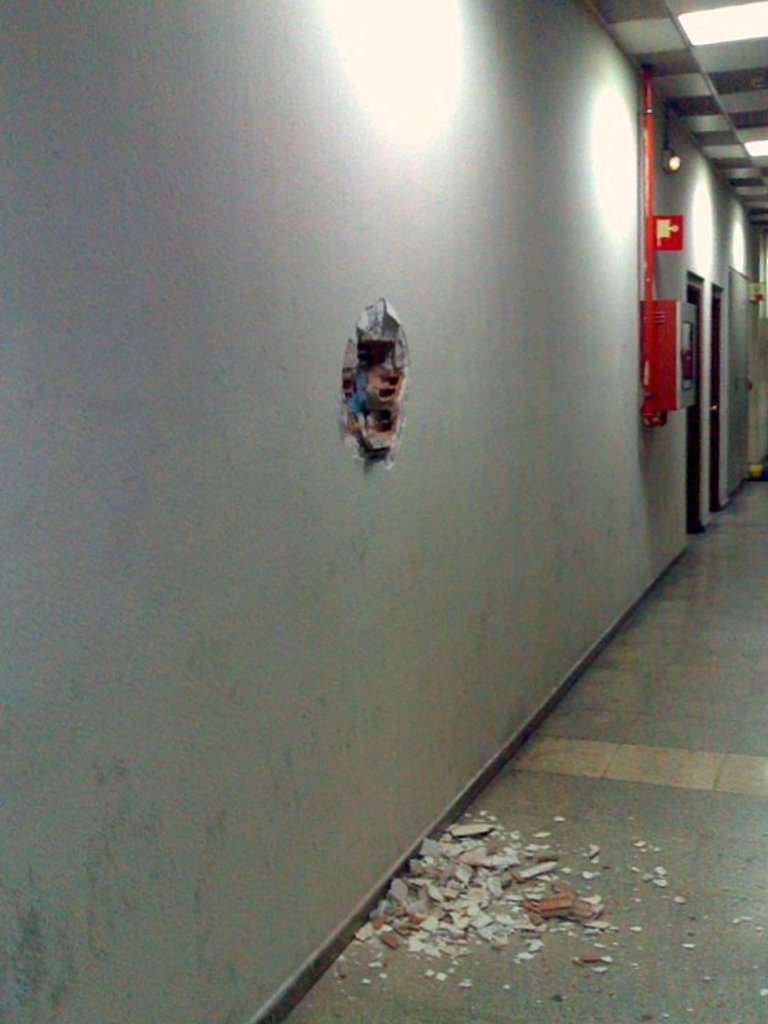Door: (691, 294, 730, 518), (679, 285, 706, 542)
